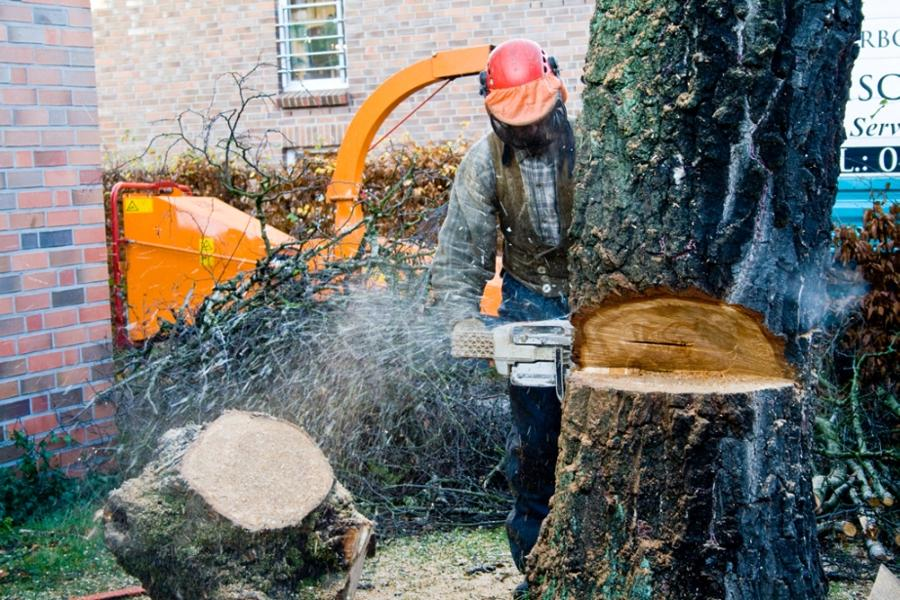person: (430, 40, 581, 579)
